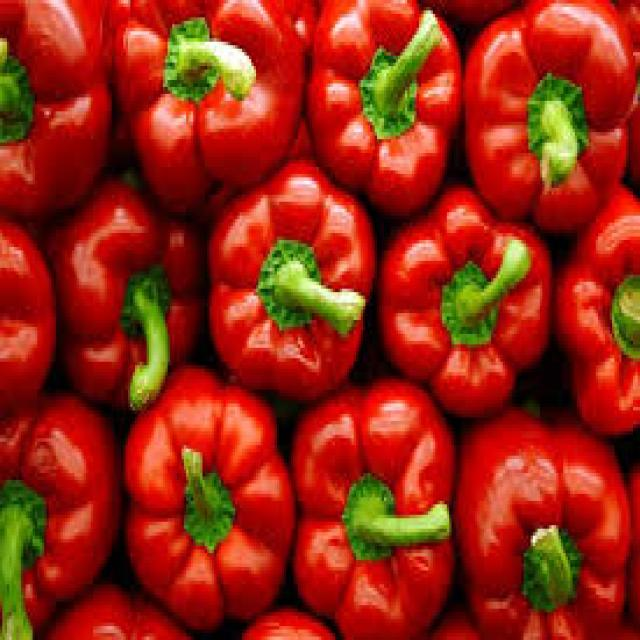Bell pepper: (112, 351, 294, 630), (280, 367, 460, 633), (370, 168, 553, 418), (447, 403, 640, 640), (208, 140, 374, 413), (106, 0, 312, 219), (290, 0, 473, 225), (458, 0, 640, 226), (48, 165, 205, 411), (0, 383, 117, 636), (0, 0, 126, 211), (545, 177, 640, 435), (0, 211, 60, 412)
